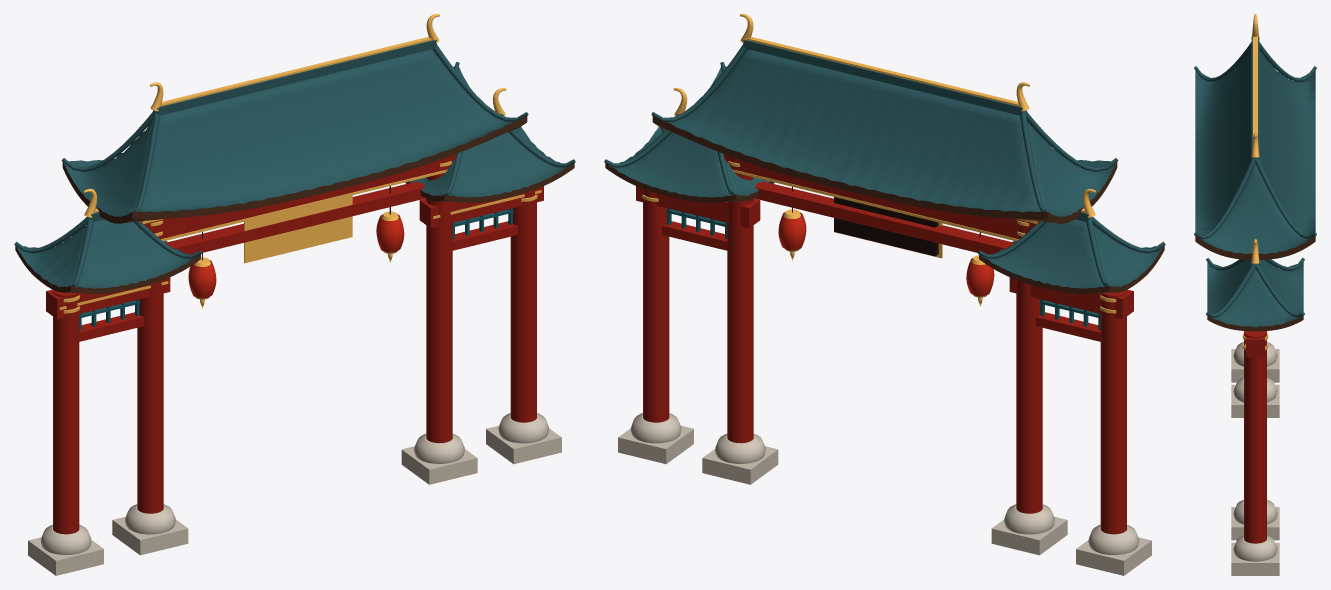
The model's file is gate_pavilion.glb.
3 renders of one model, left to right at view 1: azimuth 30°, elevation 25°; view 2: azimuth 150°, elevation 25°; view 3: azimuth 270°, elevation 25°, orthographic. The views are drawn at different scales.
Parts seen in each view (by area): view 1: gate_pavilion; view 2: gate_pavilion; view 3: gate_pavilion.
Part boxes in pixels (x1,y1,x2,y2): gate_pavilion: [14, 14, 575, 575]; gate_pavilion: [604, 14, 1165, 575]; gate_pavilion: [1194, 14, 1316, 575].
Bounding box in the file's own units: 10.5 × 9.04 × 2.55.
